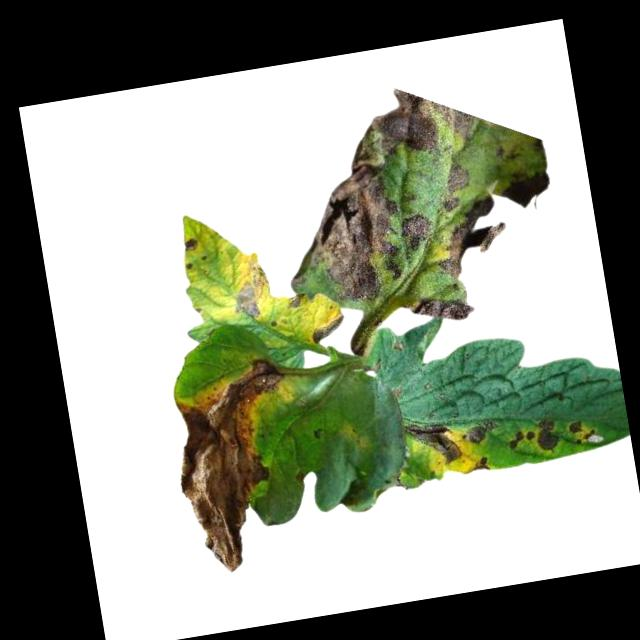Early_blight: (161, 354, 312, 580), (274, 167, 410, 316), (341, 77, 476, 171), (431, 195, 516, 282), (406, 415, 464, 470), (226, 264, 276, 325), (408, 289, 477, 328), (501, 172, 559, 217), (398, 213, 436, 259), (443, 158, 484, 198), (308, 313, 348, 344), (535, 418, 564, 456), (569, 417, 603, 449), (468, 419, 500, 447), (508, 428, 540, 452), (461, 455, 493, 476), (287, 292, 307, 310), (182, 236, 202, 254)
